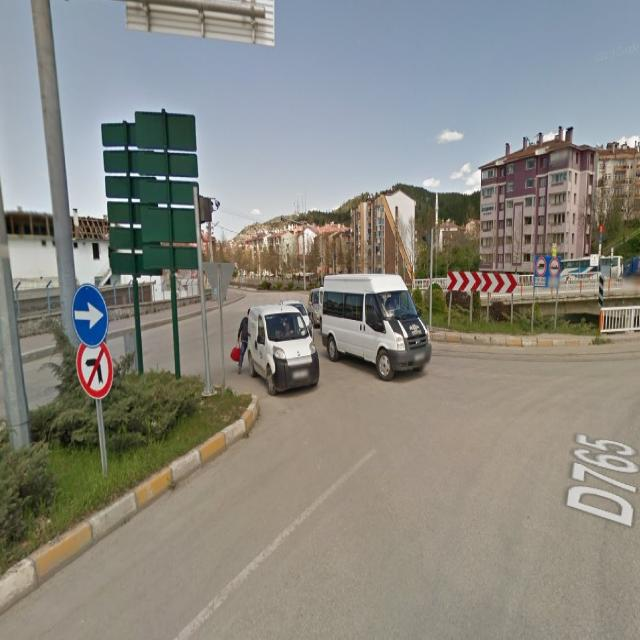sag: (72, 284, 108, 345)
soladonulmez: (75, 341, 113, 399)
